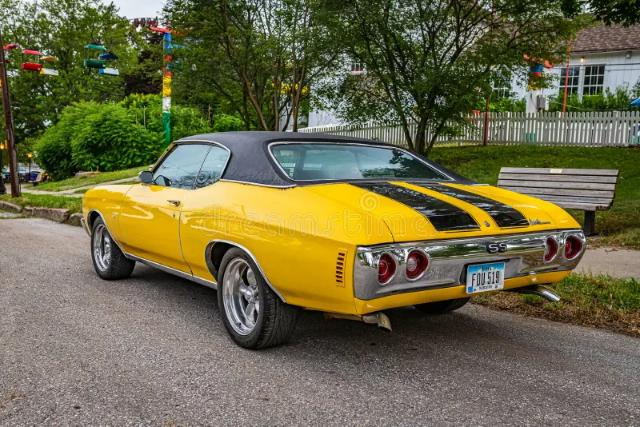chevelle-1972: (82, 131, 586, 349)
